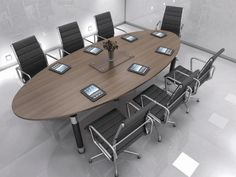conference_table: (9, 29, 181, 121)
